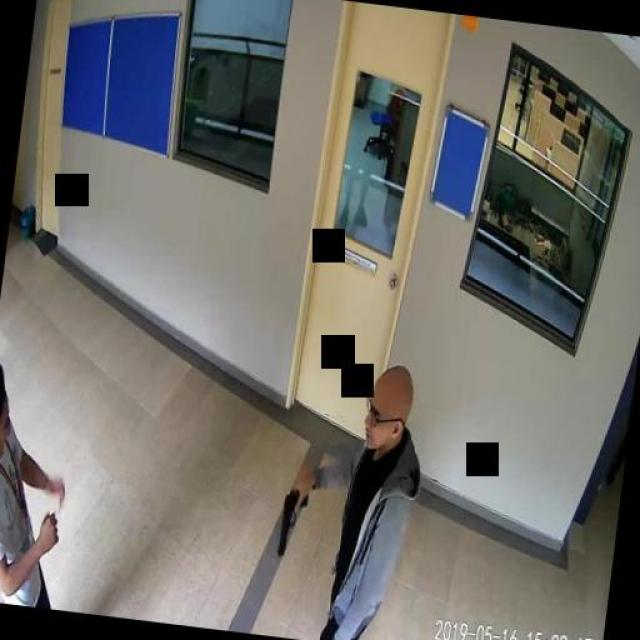gun: (275, 482, 309, 558)
